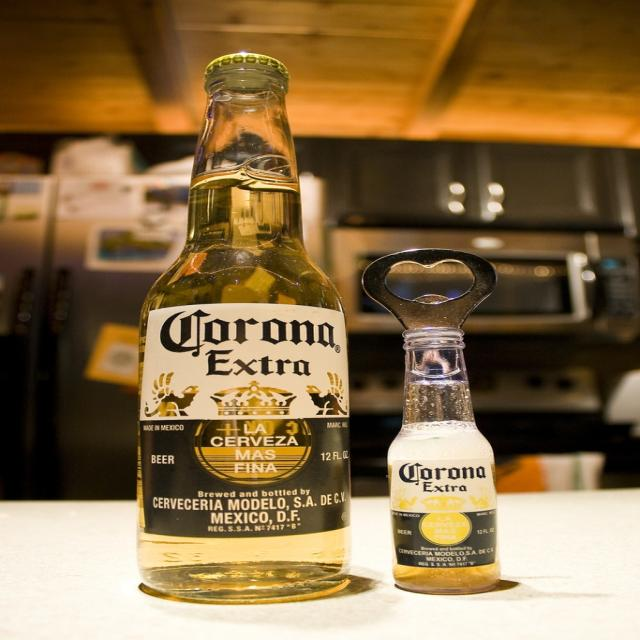corona: (140, 304, 352, 539), (391, 459, 497, 569)
